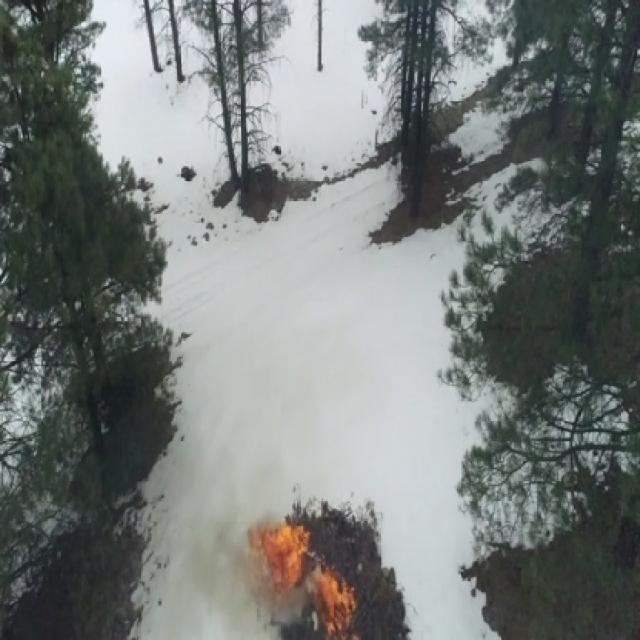Fire: (254, 524, 305, 590), (318, 568, 357, 640)
